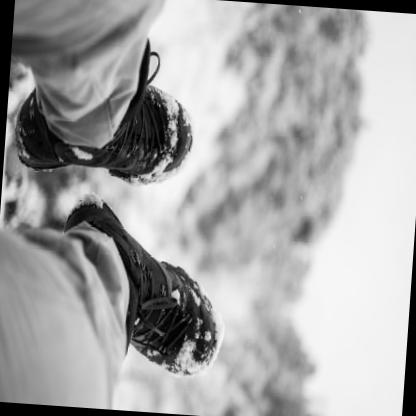ankle: (67, 148, 75, 155), (121, 246, 127, 253)
heel: (73, 212, 82, 225), (18, 130, 25, 141)
left_foot: (14, 77, 196, 189)
pinky: (174, 108, 182, 118), (179, 367, 185, 373)
right_foot: (55, 196, 232, 380)
toe: (209, 322, 216, 330), (177, 151, 182, 161)
